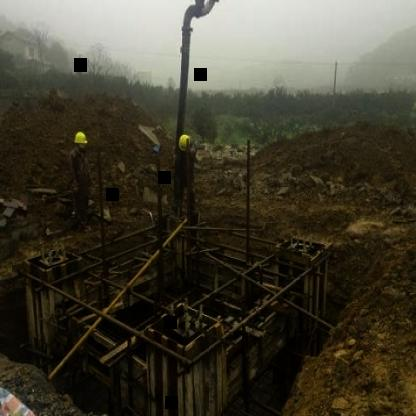helmet: (72, 128, 92, 156), (176, 134, 196, 154)
